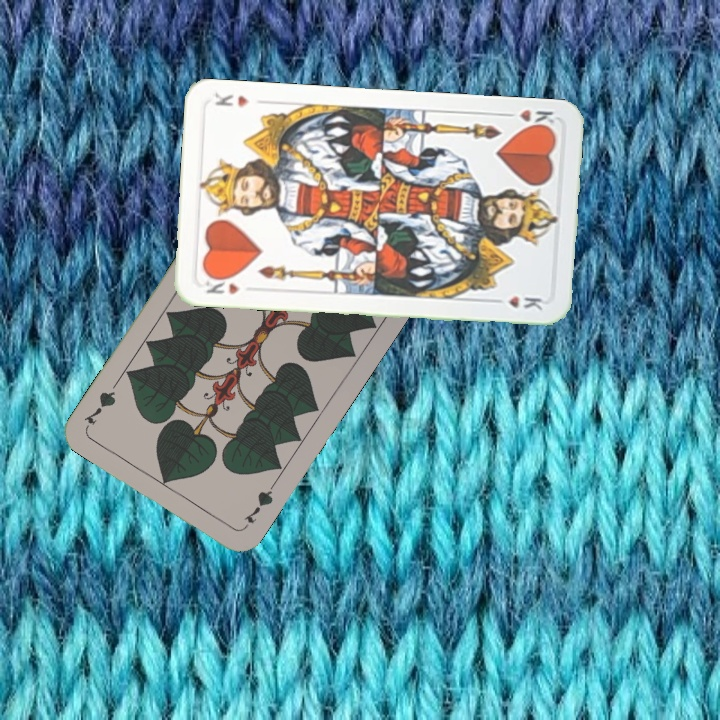G7: (238, 480, 277, 533)
HK: (499, 105, 557, 133), (199, 271, 242, 297)
